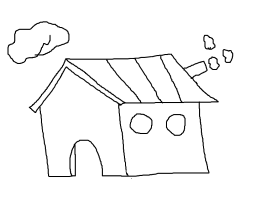clouds: (5, 21, 70, 64)
door: (60, 138, 109, 184)
open_window: (129, 111, 154, 135), (165, 112, 187, 136)
roof: (27, 53, 219, 113)
smoking_chimney: (171, 26, 243, 83)
wall: (114, 99, 211, 178)
